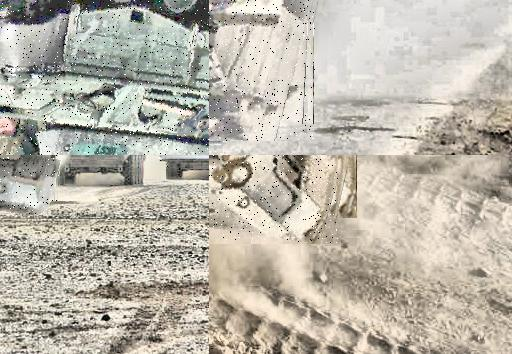tanks: (1, 1, 210, 156), (210, 1, 312, 142), (210, 156, 338, 244), (1, 156, 60, 216), (57, 156, 147, 186), (160, 156, 210, 179)
